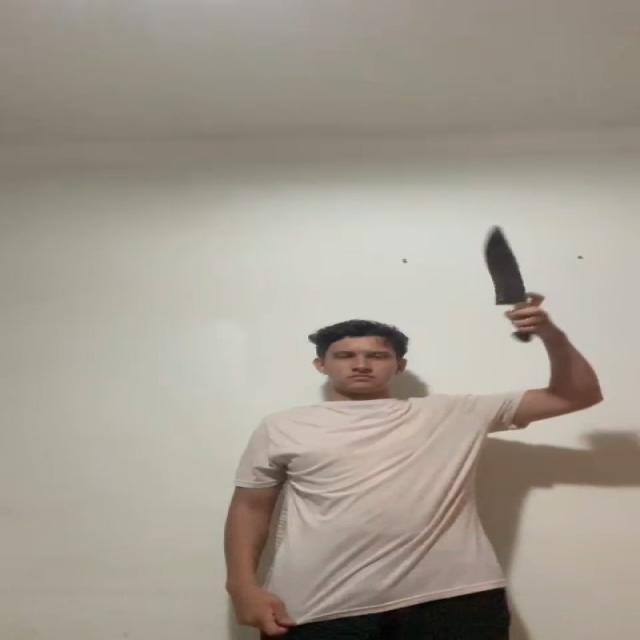knife: (482, 224, 524, 297)
